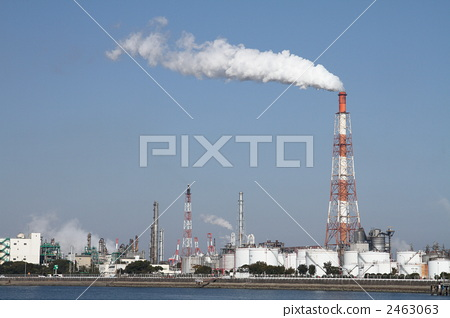dust: (105, 17, 352, 101)
